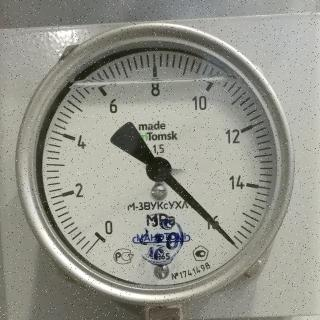gauge: (3, 19, 301, 317), (85, 221, 115, 251), (145, 155, 171, 182), (207, 216, 233, 242), (226, 236, 240, 250)
